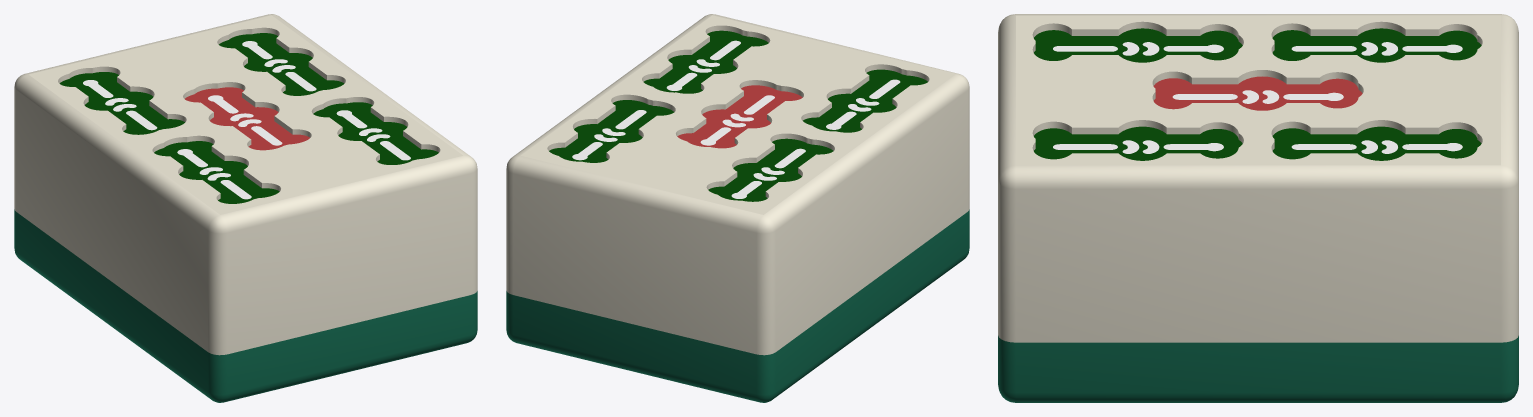
Rendered from Sou5.glb.
The picture shows the model from 3 angles, left to right: view 1: azimuth 30°, elevation 25°; view 2: azimuth 150°, elevation 25°; view 3: azimuth 270°, elevation 25°; orthographic projection. The views are drawn at different scales.
Parts seen in each view (by area): view 1: Sou5_body, Sou5_inset; view 2: Sou5_body, Sou5_inset; view 3: Sou5_body, Sou5_inset.
Part boxes in pixels (<box>): Sou5_body: <box>14,14,477,402</box>; Sou5_inset: <box>59,33,438,203</box>; Sou5_body: <box>506,14,969,402</box>; Sou5_inset: <box>549,30,927,201</box>; Sou5_body: <box>998,14,1518,402</box>; Sou5_inset: <box>1034,28,1481,160</box>.
Size of the model in its own units: 0.024 by 0.016 by 0.032.
